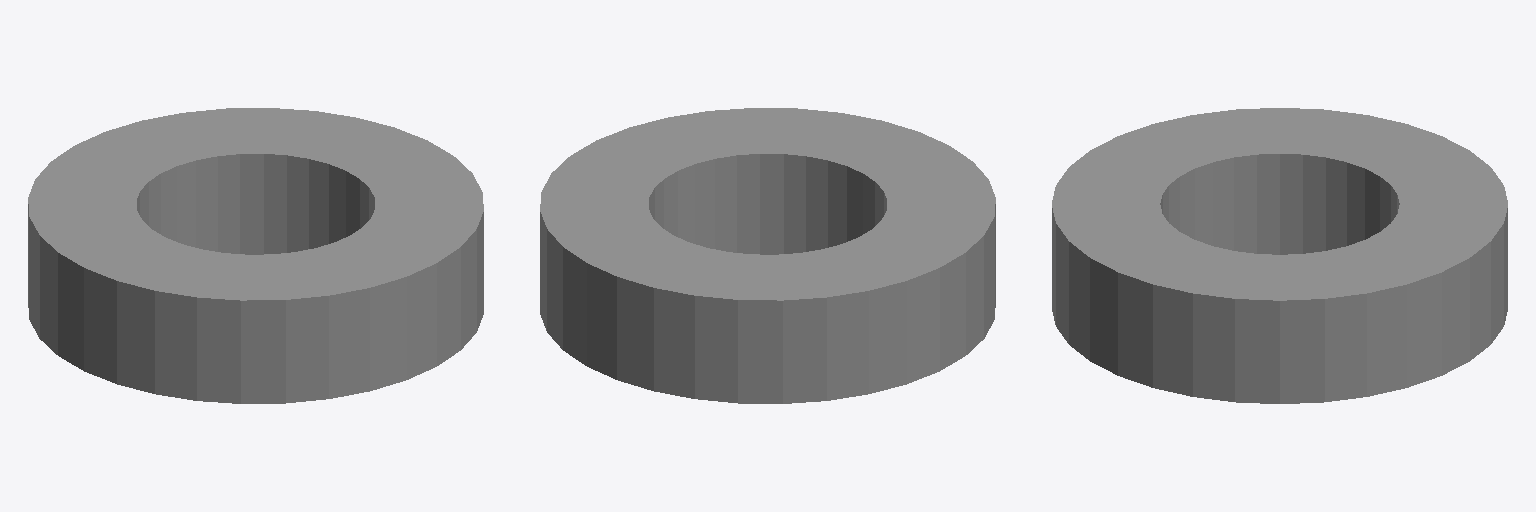
The model's file is test_tape.obj.
3 views of the same model, side by side, from view 1: azimuth 30°, elevation 25°; view 2: azimuth 150°, elevation 25°; view 3: azimuth 270°, elevation 25° (orthographic).
Visible parts, largest first — view 1: Cylinder_Cylinder.003; view 2: Cylinder_Cylinder.003; view 3: Cylinder_Cylinder.003.
Part boxes in pixels (left/top/right/bottom): Cylinder_Cylinder.003: left=28, top=108, right=483, bottom=403; Cylinder_Cylinder.003: left=540, top=108, right=995, bottom=403; Cylinder_Cylinder.003: left=1052, top=108, right=1507, bottom=403.
Bounding box in the file's own units: 4 × 1 × 4.